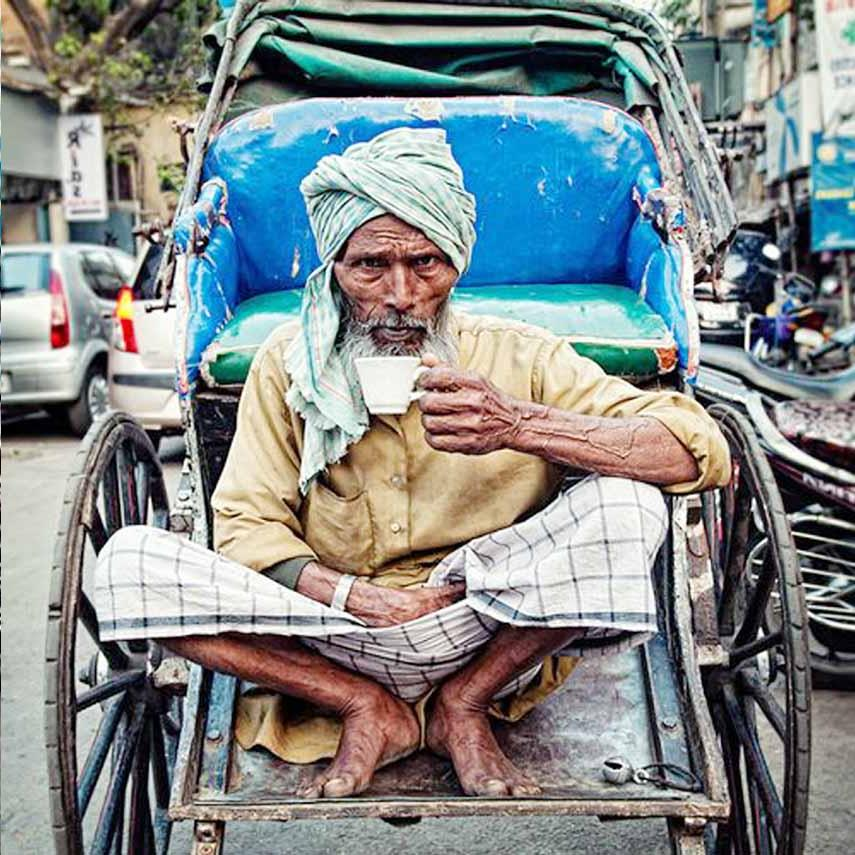Rickshaw: (60, 4, 818, 808)
